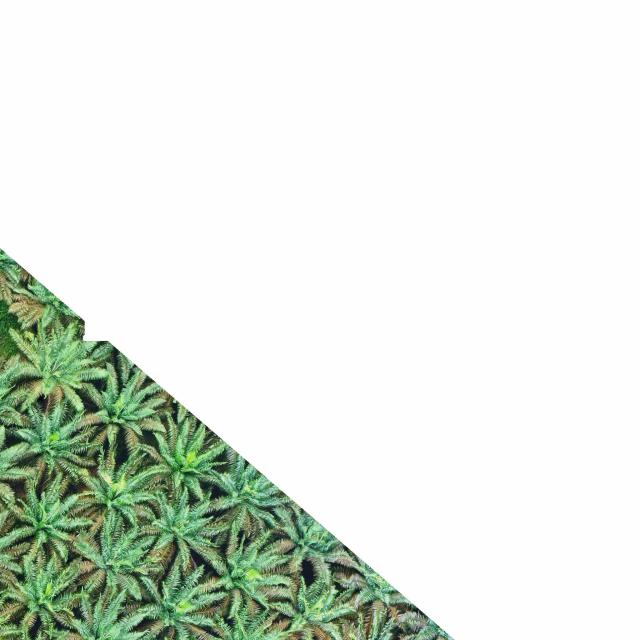Tree: (197, 520, 294, 620), (1, 399, 102, 490), (0, 476, 94, 566), (68, 512, 163, 601), (0, 547, 91, 633), (134, 562, 230, 640), (72, 448, 162, 531), (142, 485, 226, 570), (72, 380, 156, 462), (270, 572, 358, 640)
